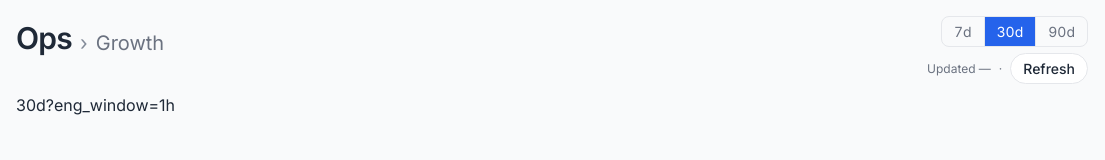
Test: OpsLayout › changing the window updates the URL and the shared context
The image size is (1105, 160).
Click the button named "Last 7 days". click: (963, 32)
box: left=942, top=17, right=984, bottom=46
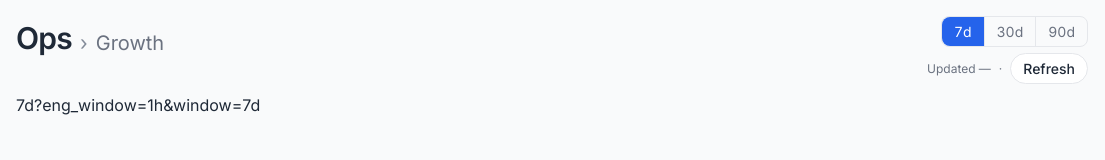
Expected: the text with test id "window" reads "7d", left=16, top=95, right=34, bottom=115
Expected: the text with test id "search" shows "eng_window=1h&window=7d", left=34, top=95, right=260, bottom=115
